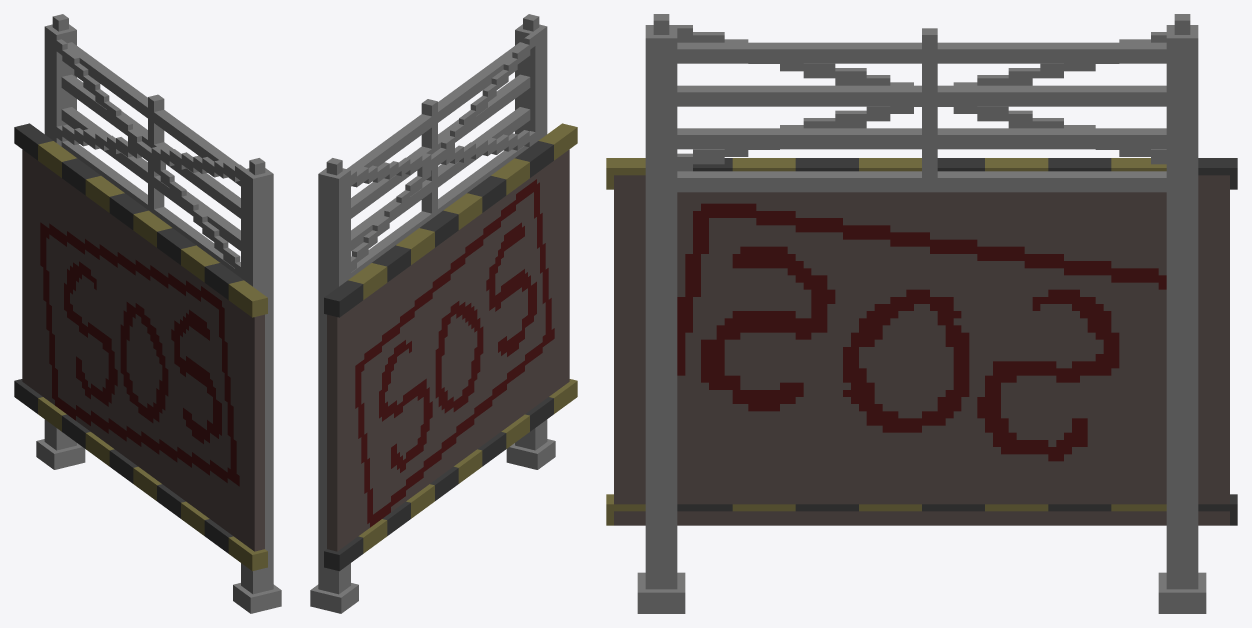
The model's file is Background_A_door_04.FBX.
The picture shows the model from 3 angles, left to right: view 1: azimuth 30°, elevation 25°; view 2: azimuth 150°, elevation 25°; view 3: azimuth 270°, elevation 25°; orthographic projection. The views are drawn at different scales.
Visible parts, largest first — view 1: Load_A-1; view 2: Load_A-1; view 3: Load_A-1.
Part boxes in pixels (<box>): Load_A-1: <box>14,14,281,613</box>; Load_A-1: <box>310,14,577,613</box>; Load_A-1: <box>606,14,1237,613</box>.
Size of the model in its own units: 0.8 by 8.2 by 8.
Materials: 1 (1 with a texture image).
